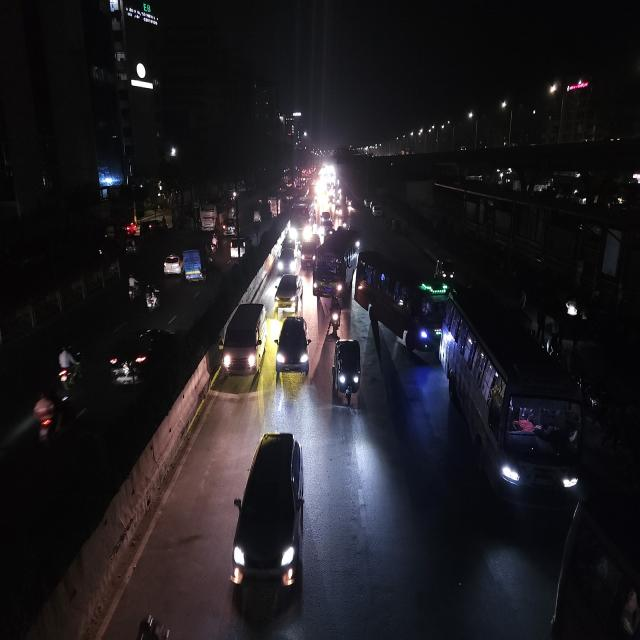bus: (442, 279, 584, 518), (354, 246, 446, 360), (312, 228, 356, 304), (289, 200, 315, 242), (198, 201, 218, 231)
car: (230, 427, 307, 612), (106, 322, 174, 396), (219, 300, 267, 383), (274, 312, 310, 381), (273, 272, 304, 315), (276, 236, 298, 276), (299, 235, 317, 268), (162, 251, 183, 278)
cng: (331, 334, 363, 409), (434, 254, 456, 284), (228, 234, 250, 263), (221, 214, 239, 238)
motorcycle: (29, 363, 77, 450), (53, 345, 84, 398), (142, 280, 162, 315), (329, 296, 343, 334), (124, 273, 140, 304), (209, 231, 219, 254)
truck: (181, 240, 212, 286)
